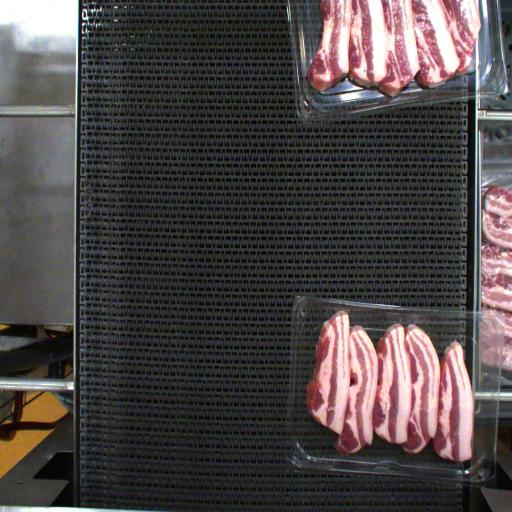packaging-error: (334, 302, 352, 316)
